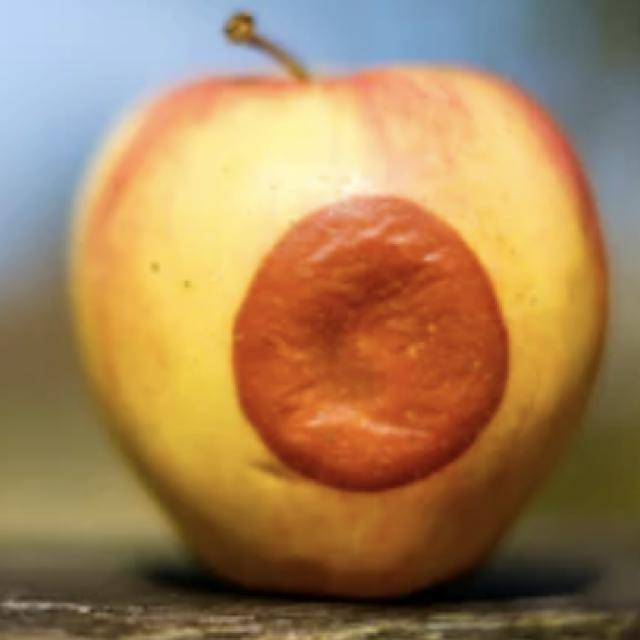Rotten: (53, 63, 610, 607)
